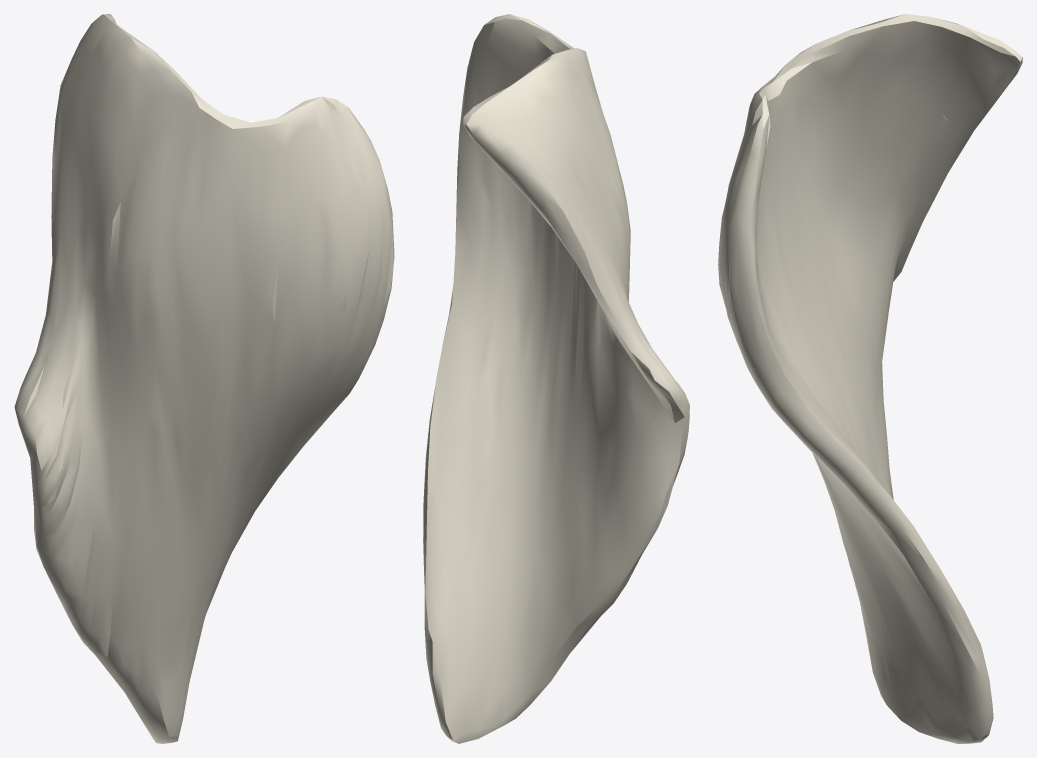
File: fma43022_mm1390m.glb
3 renders of one model, left to right at view 1: azimuth 30°, elevation 25°; view 2: azimuth 150°, elevation 25°; view 3: azimuth 270°, elevation 25°, orthographic. The views are drawn at different scales.
Parts seen in each view (by area): view 1: FMA43022_MM1390M; view 2: FMA43022_MM1390M; view 3: FMA43022_MM1390M.
Boxes of the visible parts, x1,y1,x2,y2 form: FMA43022_MM1390M: (14, 14, 394, 743); FMA43022_MM1390M: (423, 14, 689, 743); FMA43022_MM1390M: (718, 14, 1022, 743).
Bounding box in the file's own units: 0.044 × 0.101 × 0.0397.
